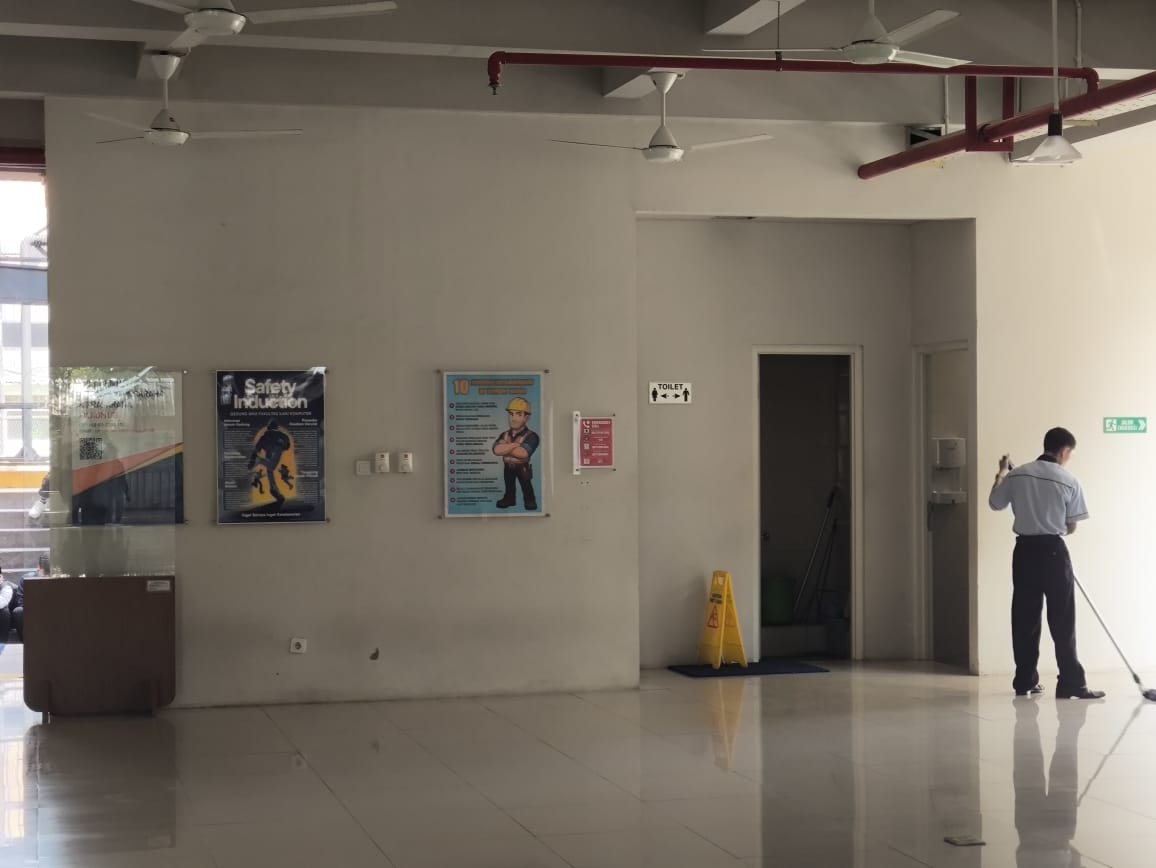toilet: (643, 377, 699, 407)
